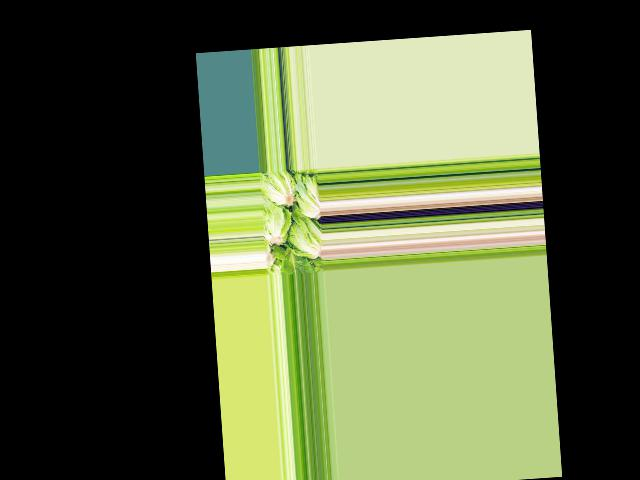lettuce: (279, 249, 305, 275)
